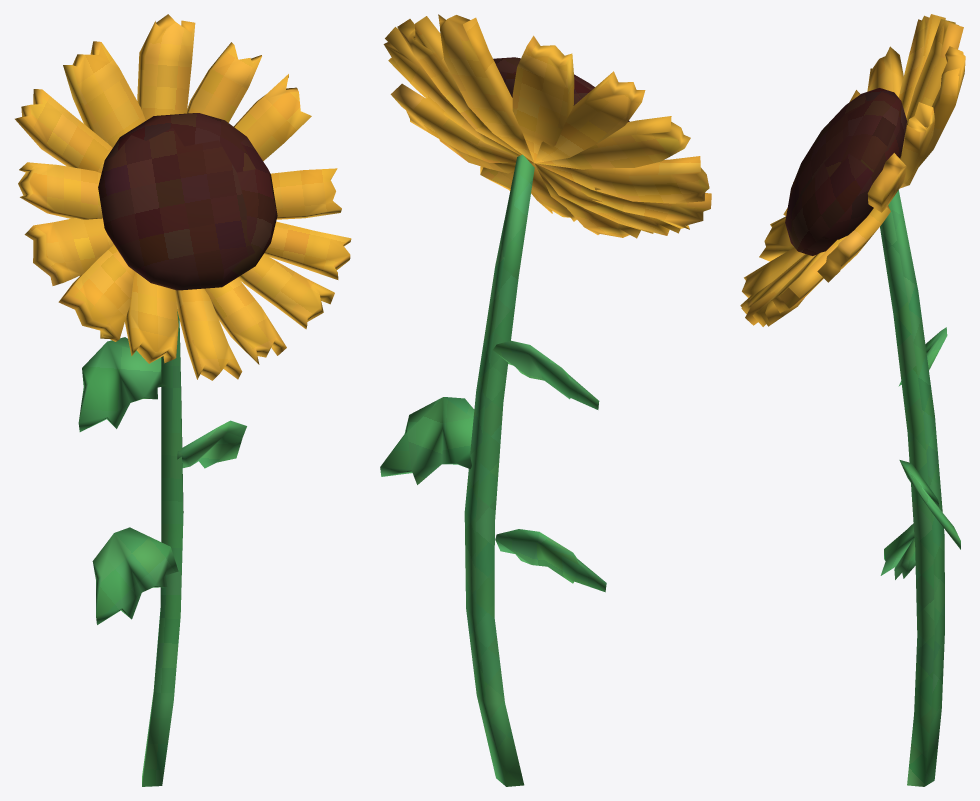
File: yellow_sunflower.fbx
3 views of the same model, side by side, from view 1: azimuth 30°, elevation 25°; view 2: azimuth 150°, elevation 25°; view 3: azimuth 270°, elevation 25° (orthographic). The views are drawn at different scales.
Parts seen in each view (by area): view 1: yellow_sunflower; view 2: yellow_sunflower; view 3: yellow_sunflower.
Boxes of the visible parts, x1=… form: yellow_sunflower: x1=15, y1=14, x2=351, y2=786; yellow_sunflower: x1=380, y1=14, x2=711, y2=786; yellow_sunflower: x1=740, y1=14, x2=965, y2=786.
Bounding box in the file's own units: 28.27 × 65.75 × 17.96.
